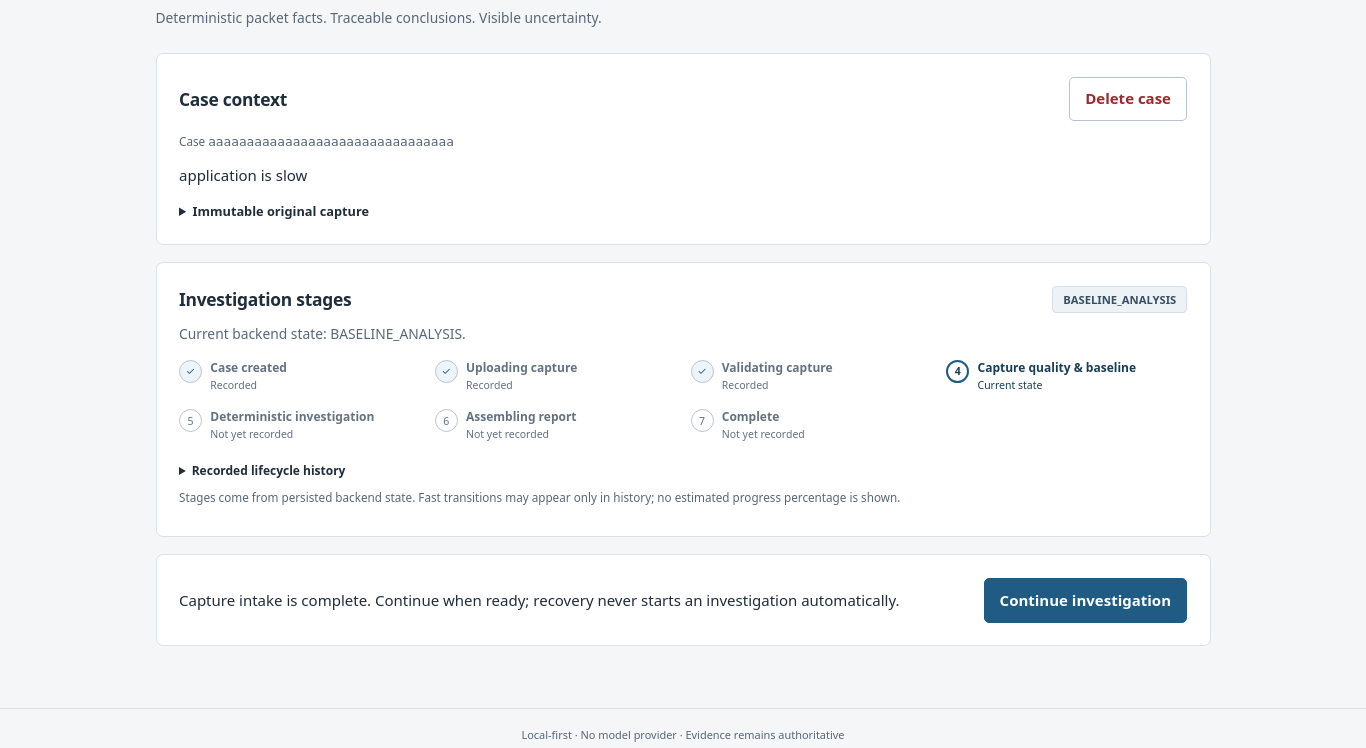
primary intake and recovery workflow › recovers the idle upload checkpoint with an explicit Continue action
(page scrolled)
Click the button "Continue investigation": coordinates (1085, 600) x1=984 y1=578 x2=1187 y2=623
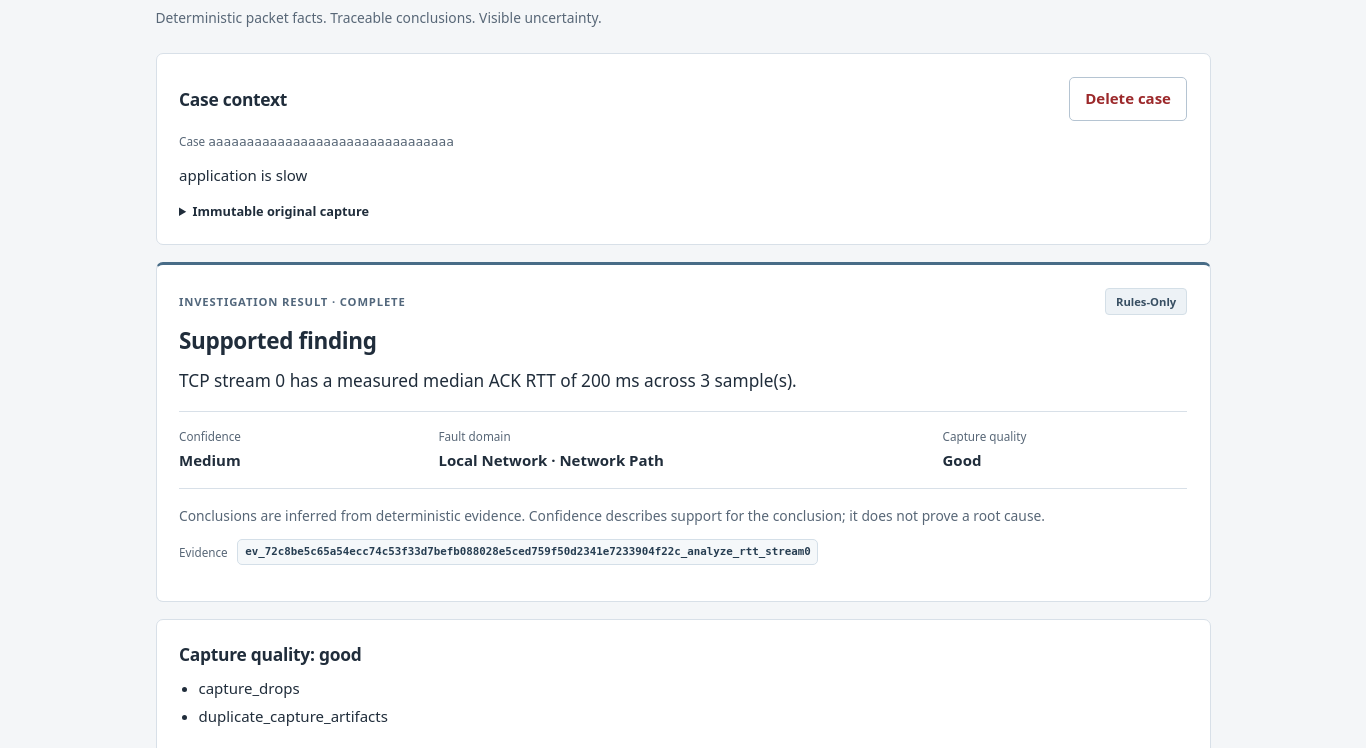
Expected: the heading "Supported finding" is shown, x1=179 y1=325 x2=377 y2=356
